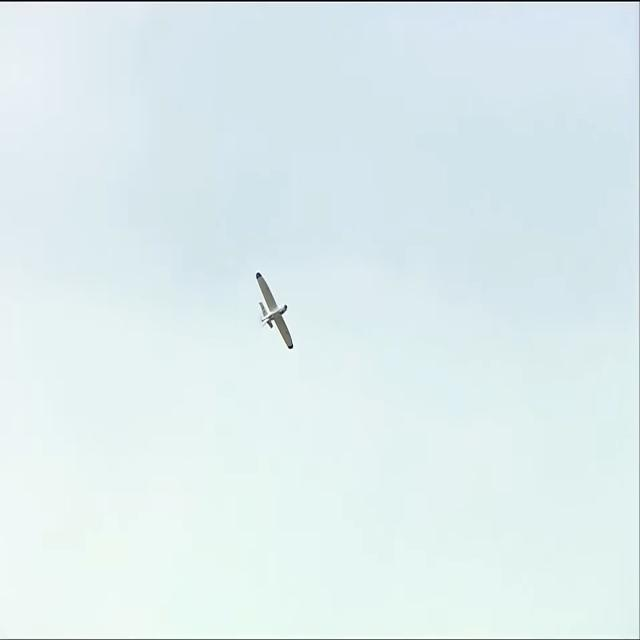iha: (256, 302, 294, 321)
